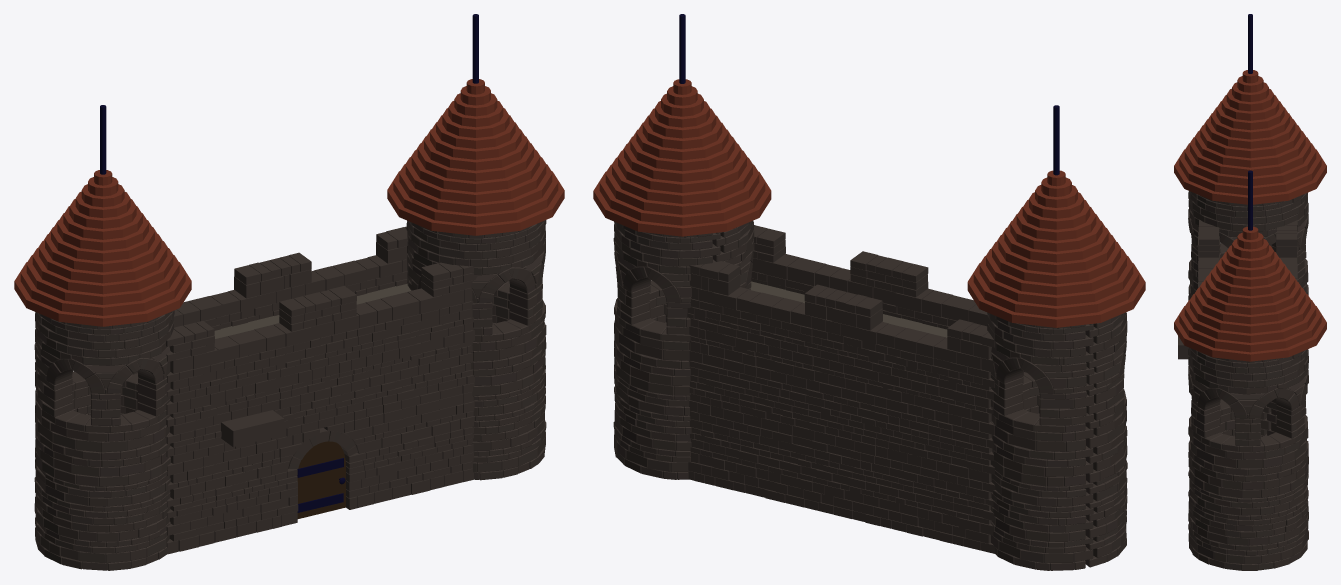
Rendered from Prefeitura.Sigma_LOD.fbx.
3 views of the same model, side by side, from view 1: azimuth 30°, elevation 25°; view 2: azimuth 150°, elevation 25°; view 3: azimuth 270°, elevation 25° (orthographic). The views are drawn at different scales.
Visible parts, largest first — view 1: BigHouse_LOD0; view 2: BigHouse_LOD0; view 3: BigHouse_LOD0.
Boxes of the visible parts, x1=… form: BigHouse_LOD0: x1=14, y1=14, x2=564, y2=570; BigHouse_LOD0: x1=593, y1=14, x2=1145, y2=570; BigHouse_LOD0: x1=1174, y1=14, x2=1326, y2=570.
Size of what is drawn, in the model's own units: 1561 by 1232 by 456.
